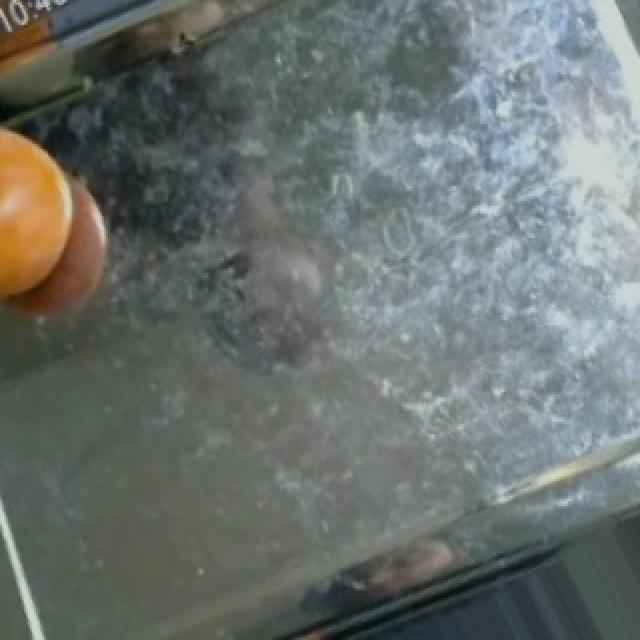Fruit: (0, 112, 100, 325)
